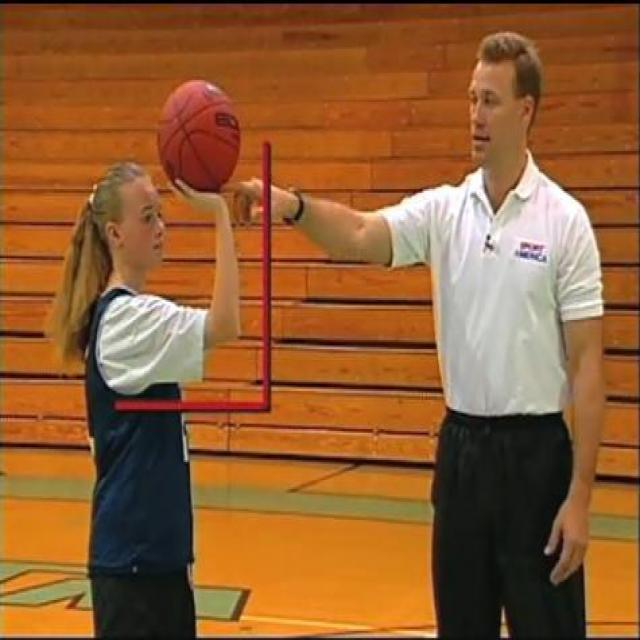hoop: (156, 80, 241, 193)
